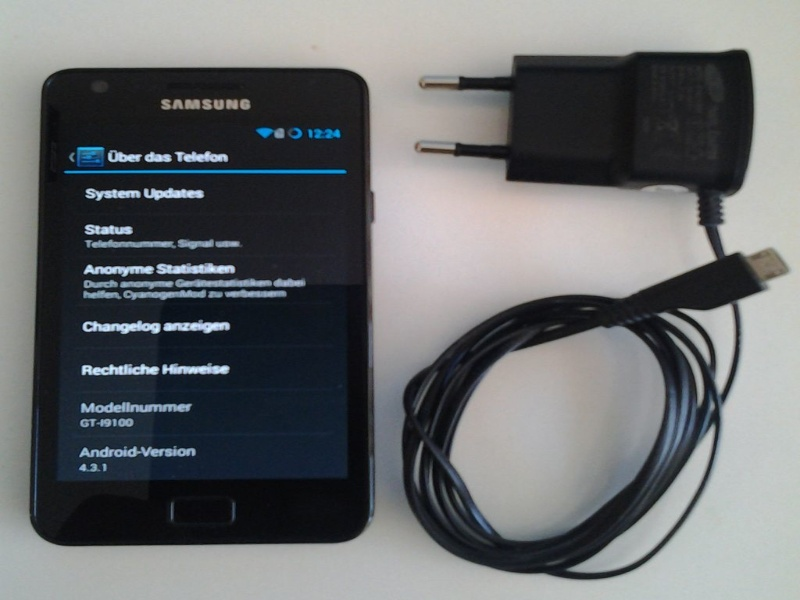cellphone: (29, 56, 379, 555)
